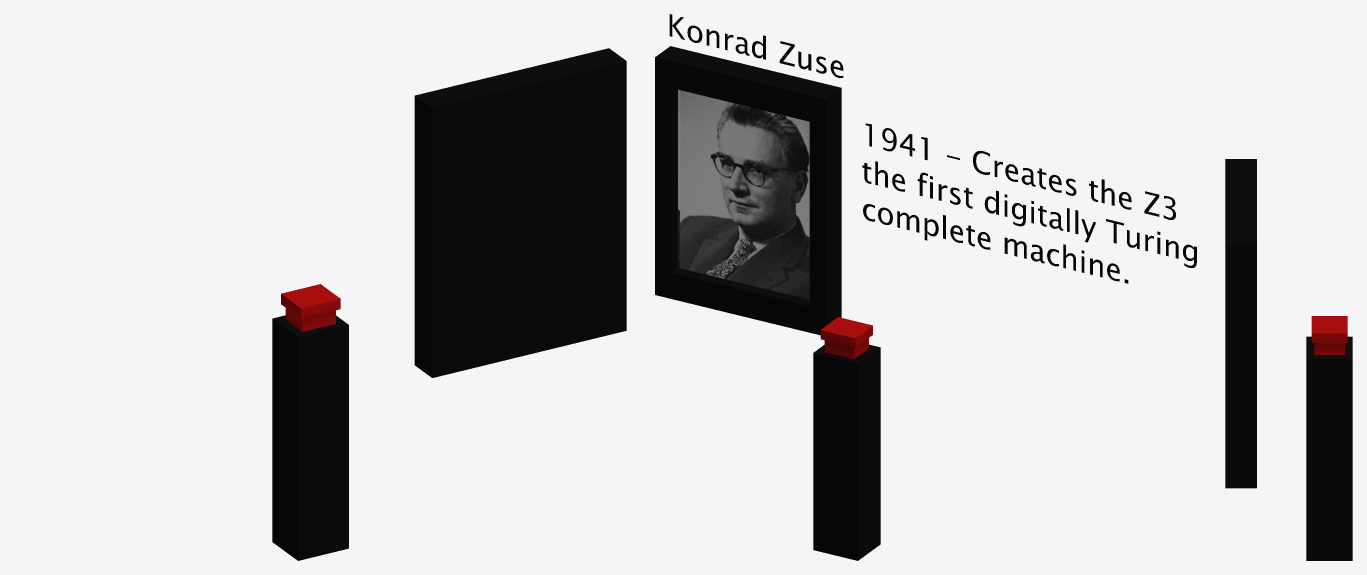
3 renders of one model, left to right at view 1: azimuth 30°, elevation 25°; view 2: azimuth 150°, elevation 25°; view 3: azimuth 270°, elevation 25°, orthographic. The views are drawn at different scales.
Parts seen in each view (by area): view 1: typeMesh19, polySurface4273; view 2: typeMesh19, polySurface4273; view 3: polySurface4273, typeMesh19.
Part boxes in pixels (bbox=[...]): typeMesh19: bbox=[414, 48, 626, 377]; polySurface4273: bbox=[272, 284, 348, 560]; typeMesh19: bbox=[655, 14, 1196, 335]; polySurface4273: bbox=[813, 317, 880, 560]; polySurface4273: bbox=[1306, 316, 1352, 560]; typeMesh19: bbox=[1225, 159, 1256, 488].
Size of what is drawn, in the model's own units: 4.9 by 3.94 by 0.9917.
Materials: 4 (1 with a texture image).
